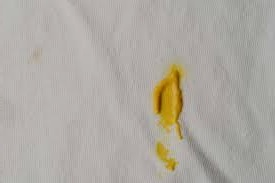mustard: (150, 67, 187, 138), (151, 143, 181, 173)
